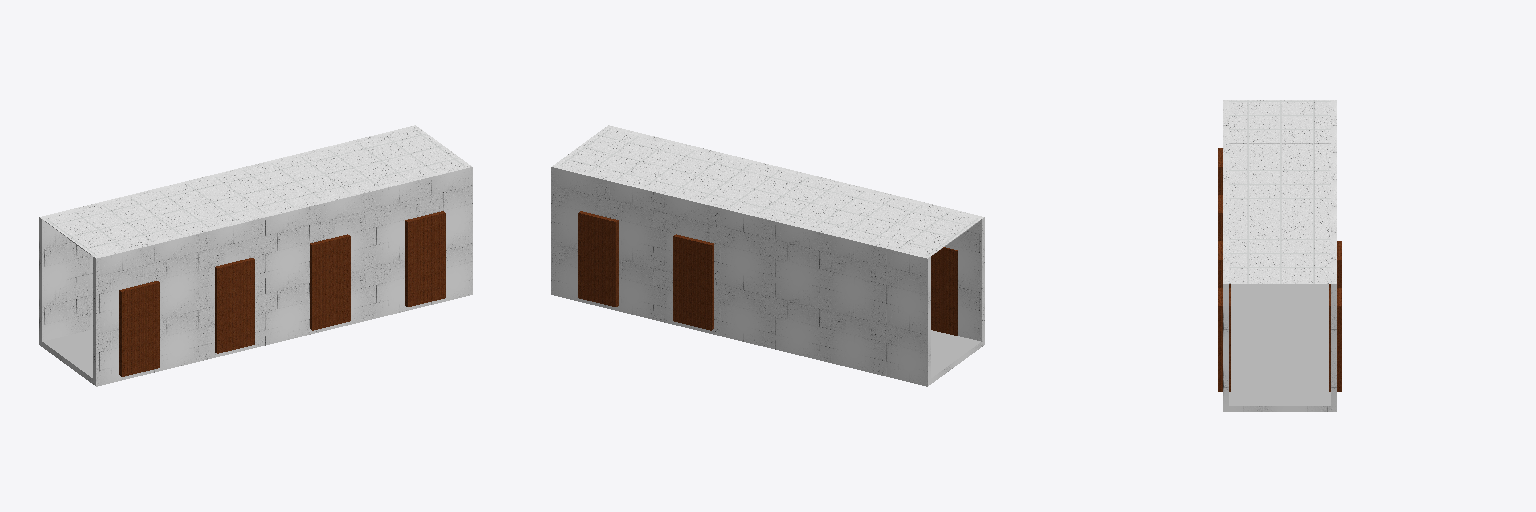
The picture shows the model from 3 angles: view 1: azimuth 30°, elevation 25°; view 2: azimuth 150°, elevation 25°; view 3: azimuth 270°, elevation 25°; orthographic projection.
Visible parts, largest first — view 1: hallway.058, roof_hallway.058, door_elevator.195; view 2: hallway.058, roof_hallway.058, door_elevator.194, door_elevator.195; view 3: roof_hallway.058, hallway.058, door_elevator.195, door_elevator.194.
Boxes of the visible parts, <box> form: hallway.058: <box>39,125,472,386</box>; roof_hallway.058: <box>43,128,468,255</box>; door_elevator.195: <box>119,211,445,376</box>; hallway.058: <box>551,125,984,386</box>; roof_hallway.058: <box>555,128,980,255</box>; door_elevator.194: <box>578,211,713,330</box>; door_elevator.195: <box>931,247,957,335</box>; roof_hallway.058: <box>1229,100,1330,283</box>; hallway.058: <box>1223,100,1336,411</box>; door_elevator.195: <box>1218,148,1230,391</box>; door_elevator.194: <box>1329,241,1341,391</box>.
Bounding box in the file's own units: 3.43 × 1.11 × 0.9786.
Materials: 5 (3 with a texture image).